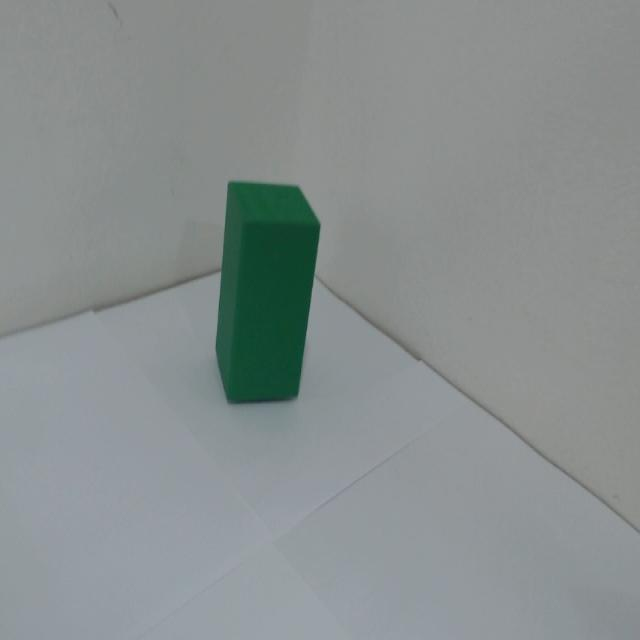cube: (182, 124, 354, 495)
